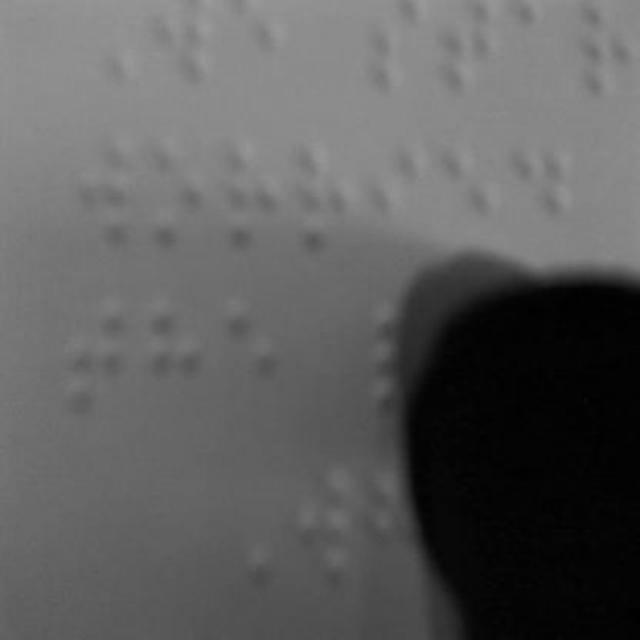braiile: (290, 444, 362, 592), (292, 128, 364, 262), (220, 282, 288, 422), (512, 132, 582, 268), (142, 282, 208, 426), (142, 120, 214, 250), (64, 279, 128, 423), (73, 116, 139, 252), (218, 121, 286, 253), (442, 126, 506, 264), (371, 132, 432, 260)
